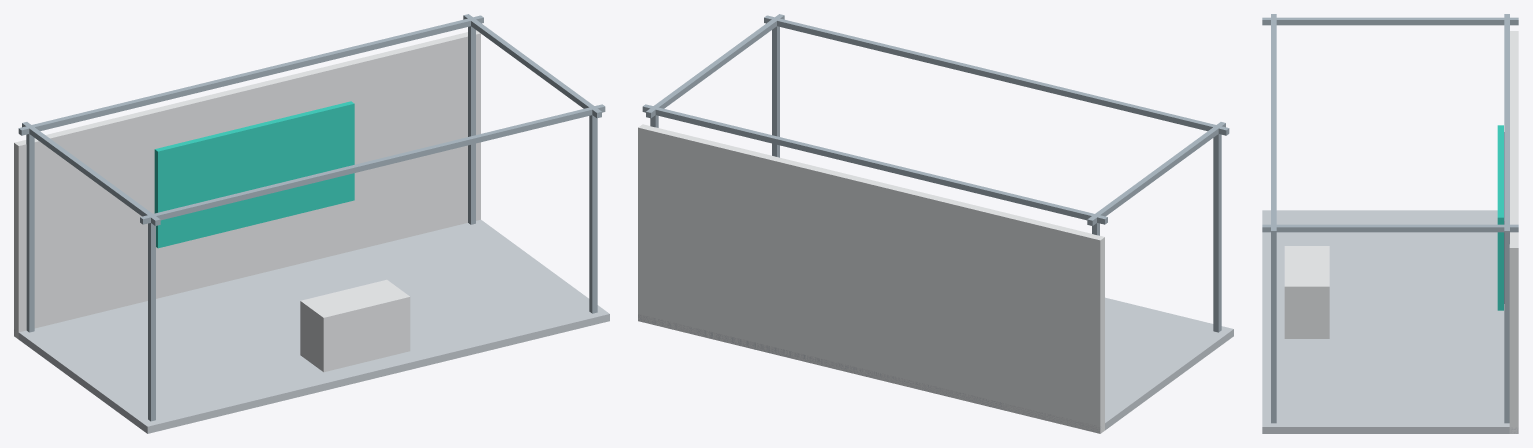
3 views of the same model, side by side, from view 1: azimuth 30°, elevation 25°; view 2: azimuth 150°, elevation 25°; view 3: azimuth 270°, elevation 25° (orthographic). The views are drawn at different scales.
Parts seen in each view (by area): view 1: Exhibition Booth Concept; view 2: Exhibition Booth Concept; view 3: Exhibition Booth Concept.
Part boxes in pixels (x1,y1,x2,y2): Exhibition Booth Concept: (14,14,609,433); Exhibition Booth Concept: (638,14,1233,433); Exhibition Booth Concept: (1262,14,1518,433).
Bounding box in the file's own units: 8 × 3.49 × 4.
